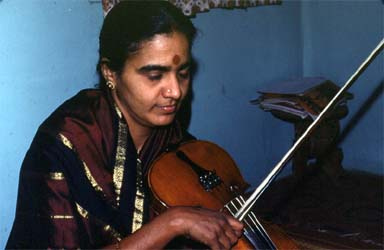person: (2, 3, 246, 250)
